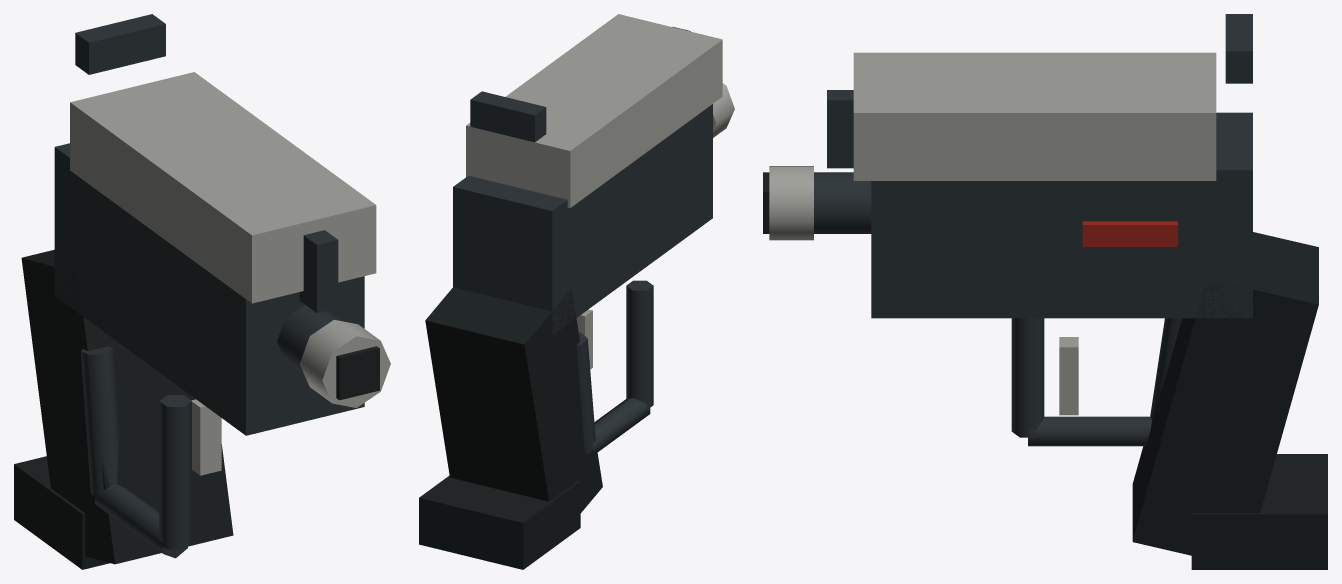
3 renders of one model, left to right at view 1: azimuth 30°, elevation 25°; view 2: azimuth 150°, elevation 25°; view 3: azimuth 270°, elevation 25°, orthographic. The views are drawn at different scales.
Visible parts, largest first — view 1: weapon-pistol-2-painted; view 2: weapon-pistol-2-painted; view 3: weapon-pistol-2-painted.
Part boxes in pixels (x1,y1,x2,y2): weapon-pistol-2-painted: (14, 14, 390, 569); weapon-pistol-2-painted: (419, 14, 734, 569); weapon-pistol-2-painted: (763, 14, 1327, 569).
Bounding box in the file's own units: 0.3785 × 1.41 × 1.42.
